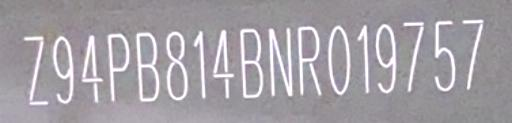letter: (296, 24, 326, 97), (264, 25, 294, 98), (236, 26, 266, 99), (20, 33, 50, 106), (163, 28, 191, 103), (324, 23, 352, 96), (208, 28, 236, 101), (134, 30, 162, 103), (78, 32, 106, 105), (432, 19, 458, 92), (400, 20, 426, 93), (50, 35, 76, 106), (461, 17, 485, 92), (374, 22, 398, 95), (106, 31, 130, 104), (354, 22, 372, 95), (190, 28, 208, 101)
